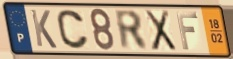8: (90, 7, 116, 53)
C: (56, 9, 91, 51)
F: (175, 11, 200, 52)
K: (29, 8, 59, 50)
R: (112, 8, 151, 52)
X: (143, 9, 178, 53)
